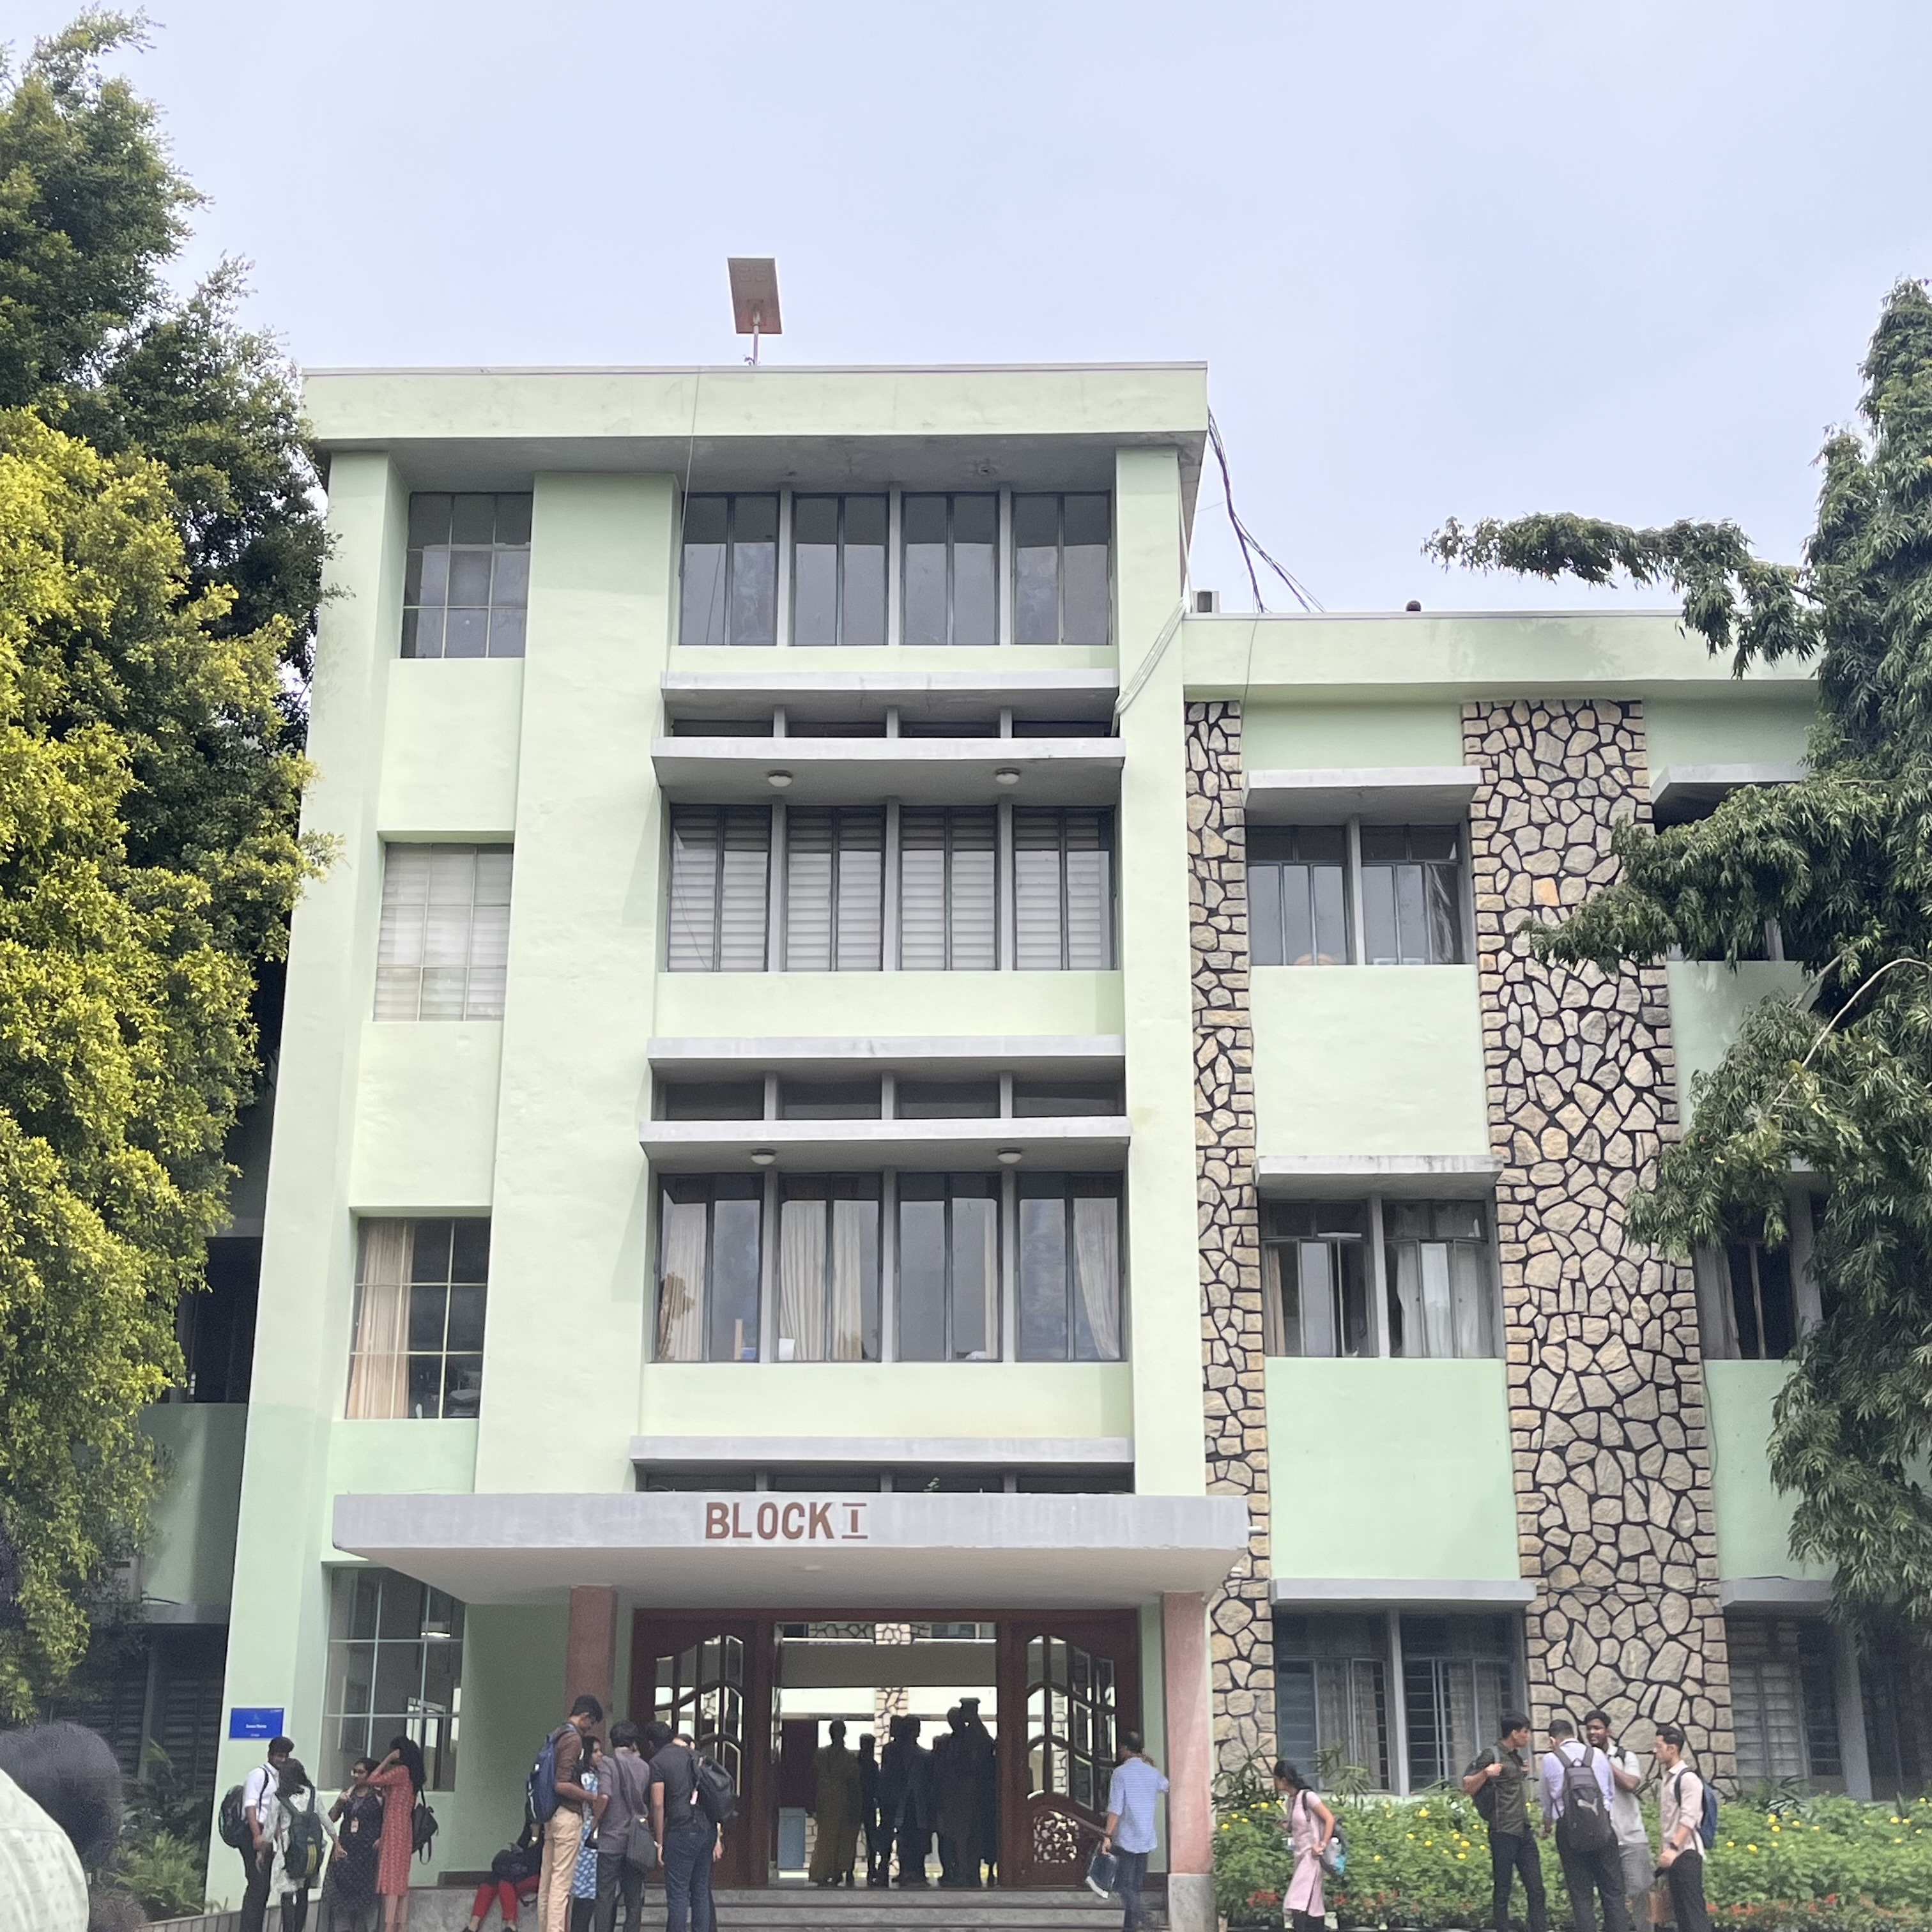Block 1: (262, 329, 1787, 1746)
